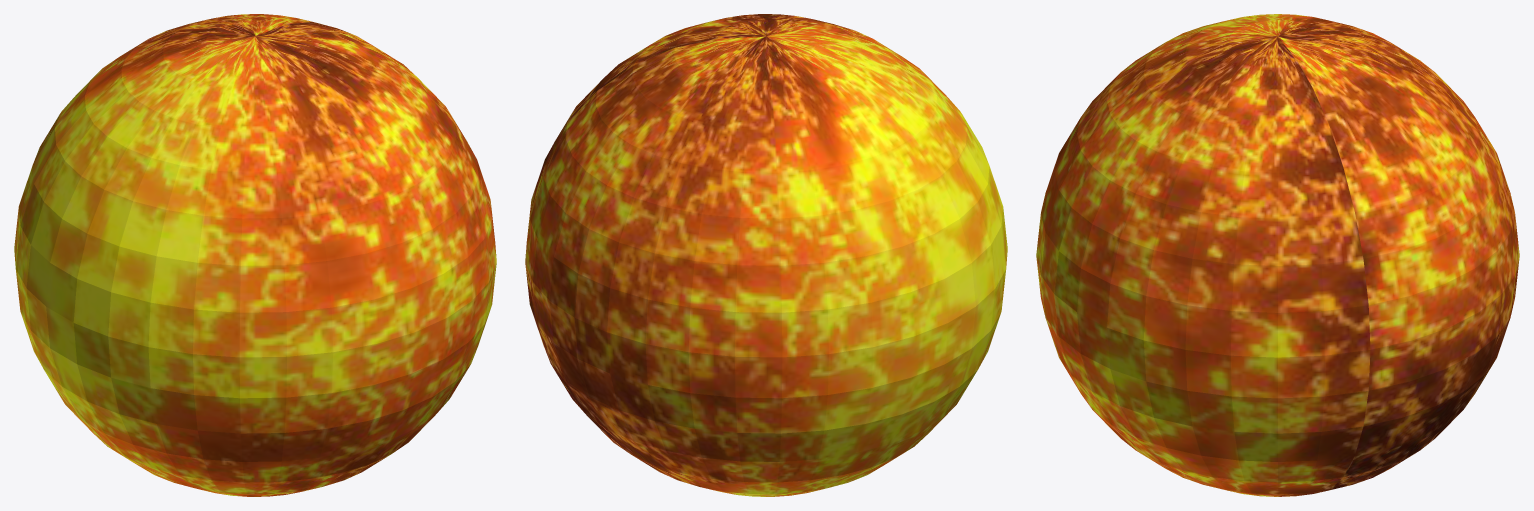
File: Sun.obj
The picture shows the model from 3 angles, left to right: view 1: azimuth 30°, elevation 25°; view 2: azimuth 150°, elevation 25°; view 3: azimuth 270°, elevation 25°; orthographic projection.
Visible parts, largest first — view 1: Sphere; view 2: Sphere; view 3: Sphere.
Boxes of the visible parts, x1,y1,x2,y2 form: Sphere: (14,14,496,496); Sphere: (525,14,1007,496); Sphere: (1036,14,1519,496).
Bounding box in the file's own units: 5450 × 5450 × 5450.
1 material, 1 textured.
